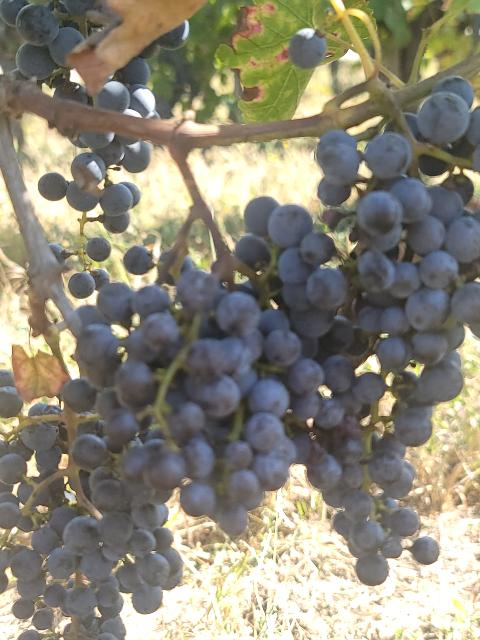grapes: (236, 78, 480, 585), (75, 271, 321, 530), (0, 346, 181, 640), (38, 131, 150, 234), (92, 56, 155, 118), (50, 244, 69, 262)
